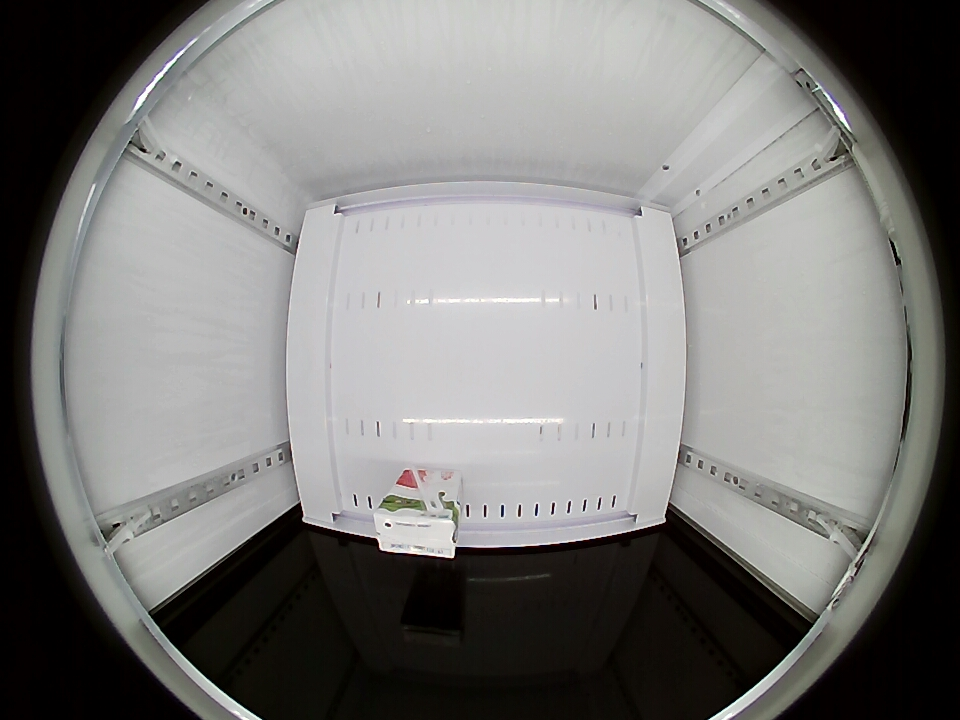mengniu: (373, 501, 460, 559)
